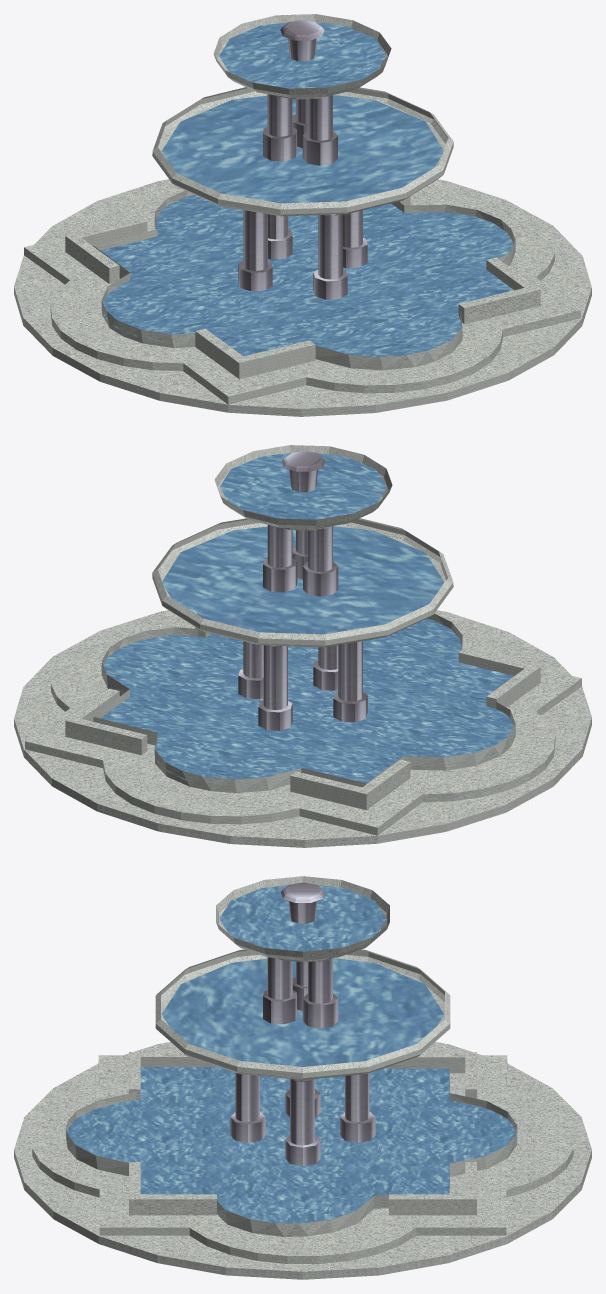
The picture shows the model from 3 angles, top to bottom: view 1: azimuth 30°, elevation 25°; view 2: azimuth 150°, elevation 25°; view 3: azimuth 270°, elevation 25°; orthographic projection.
Visible parts, largest first — view 1: 配景实体/小品/水池03.mesh001.1; view 2: 配景实体/小品/水池03.mesh001.1; view 3: 配景实体/小品/水池03.mesh001.1.
Boxes of the visible parts, x1,y1,x2,y2 form: 配景实体/小品/水池03.mesh001.1: (14,14,591,416); 配景实体/小品/水池03.mesh001.1: (14,445,591,847); 配景实体/小品/水池03.mesh001.1: (14,876,591,1279).
Bounding box in the file's own units: 6.23 × 3.18 × 6.23.
Materials: 4 (4 with a texture image).
